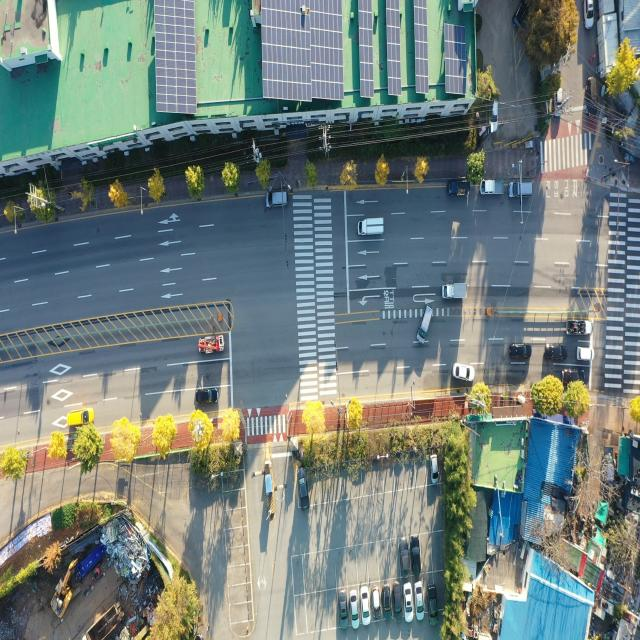car: (417, 305, 432, 344), (561, 367, 589, 385), (507, 179, 532, 199), (411, 536, 423, 576), (486, 95, 498, 135), (67, 410, 93, 428), (298, 464, 308, 504), (267, 189, 289, 207), (197, 386, 220, 403), (452, 363, 473, 380), (510, 344, 532, 360), (512, 1, 524, 29), (400, 539, 409, 576), (546, 344, 566, 360), (576, 348, 596, 364), (393, 583, 402, 618), (428, 585, 436, 623), (406, 582, 414, 619), (416, 584, 424, 621), (361, 588, 369, 625), (341, 594, 349, 631), (350, 591, 358, 626), (586, 0, 595, 30), (383, 584, 392, 613), (430, 455, 438, 484), (556, 92, 564, 120), (372, 585, 379, 615)
small_truck: (198, 335, 226, 355), (357, 217, 384, 236), (587, 74, 598, 118), (566, 322, 593, 339), (442, 283, 468, 300), (482, 182, 505, 200), (448, 180, 470, 198)
